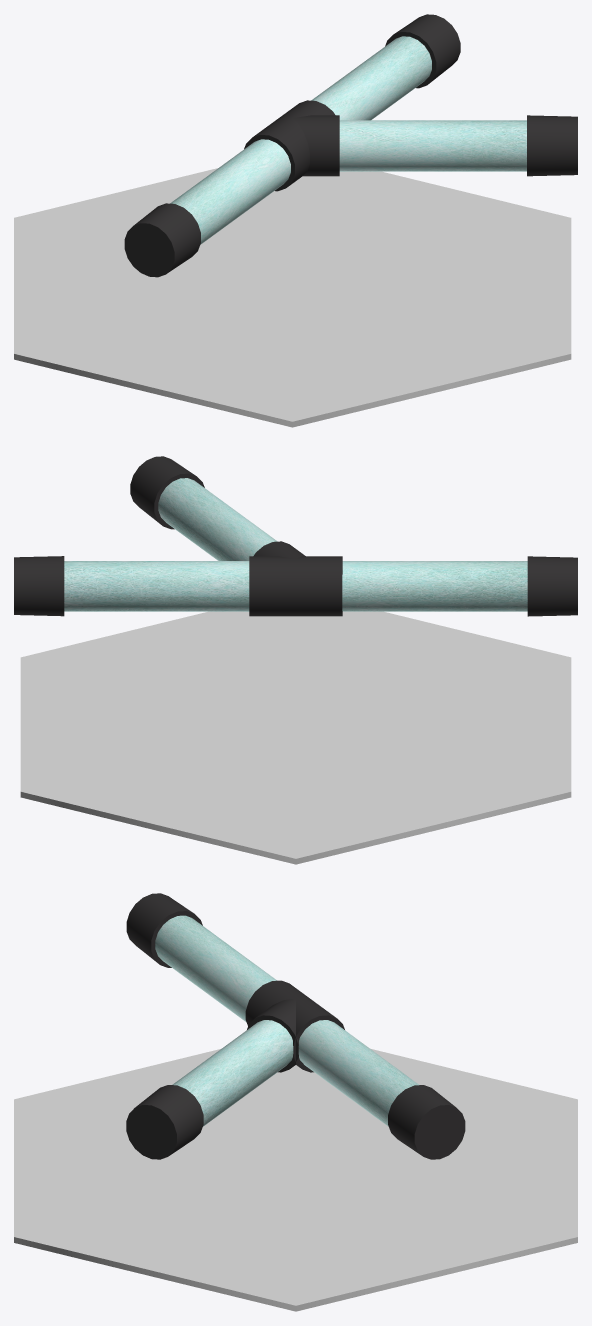
Rendered from tri1.FBX.
3 views of the same model, one above another, from view 1: azimuth 30°, elevation 25°; view 2: azimuth 150°, elevation 25°; view 3: azimuth 270°, elevation 25° (orthographic). The views are drawn at different scales.
Visible parts, largest first — view 1: Cylinder012, Cylinder010, Cylinder011; view 2: Cylinder012, Cylinder010, Cylinder011; view 3: Cylinder012, Cylinder010, Cylinder011.
Boxes of the visible parts, x1,y1,x2,y2 form: Cylinder012: (14,168,571,427); Cylinder010: (124,14,460,277); Cylinder011: (293,115,577,176); Cylinder012: (20,611,571,864); Cylinder010: (14,556,577,616); Cylinder011: (130,456,305,560); Cylinder012: (14,1048,577,1311); Cylinder010: (126,893,465,1159); Cylinder011: (126,998,298,1159).
Size of the model in its own units: 100 by 29.75 by 86.6.
2 materials, 2 textured.
